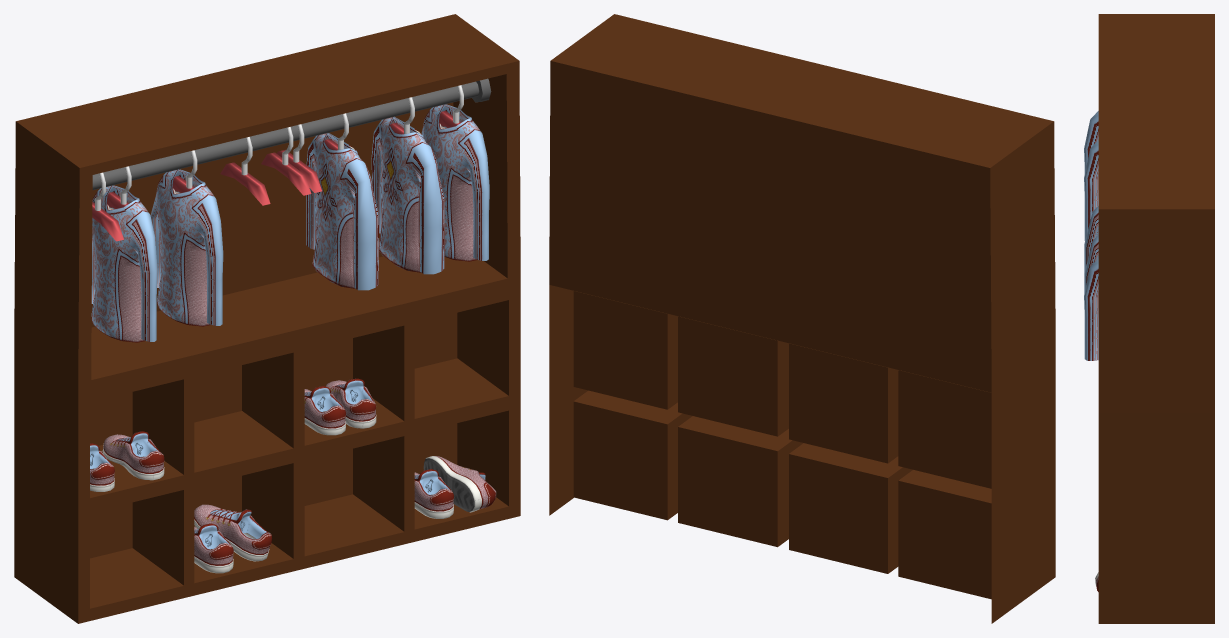
The model's file is Locker_sala_fuego.fbx.
3 views of the same model, side by side, from view 1: azimuth 30°, elevation 25°; view 2: azimuth 150°, elevation 25°; view 3: azimuth 270°, elevation 25° (orthographic). The views are drawn at different scales.
Visible parts, largest first — view 1: Cube, base body.006, base body.004, base body.001, base body.003, base body.005, Cylinder, Plane.002, Plane.004, Plane.006, Plane.007, Plane.008 (+6 smaller); view 2: Cube; view 3: Cube, base body.005, base body.006, base body.001, base body.003, base body.004.
Boxes of the visible parts, x1=… form: Cube: x1=14, y1=14, x2=520, y2=623; base body.006: x1=150, y1=169, x2=223, y2=326; base body.004: x1=371, y1=116, x2=444, y2=274; base body.001: x1=306, y1=133, x2=378, y2=290; base body.003: x1=91, y1=185, x2=157, y2=342; base body.005: x1=421, y1=104, x2=489, y2=261; Cylinder: x1=92, y1=78, x2=491, y2=190; Plane.002: x1=90, y1=431, x2=164, y2=491; Plane.004: x1=194, y1=504, x2=271, y2=561; Plane.006: x1=423, y1=456, x2=496, y2=512; Plane.007: x1=304, y1=386, x2=345, y2=435; Plane.008: x1=326, y1=378, x2=376, y2=428; Cube: x1=549, y1=14, x2=1055, y2=623; Cube: x1=1098, y1=14, x2=1214, y2=623; base body.005: x1=1084, y1=258, x2=1098, y2=360; base body.006: x1=1084, y1=140, x2=1098, y2=240; base body.001: x1=1084, y1=206, x2=1098, y2=272; base body.003: x1=1084, y1=111, x2=1098, y2=173; base body.004: x1=1084, y1=235, x2=1098, y2=293.
Bounding box in the file's own units: 799 × 786 × 225.
